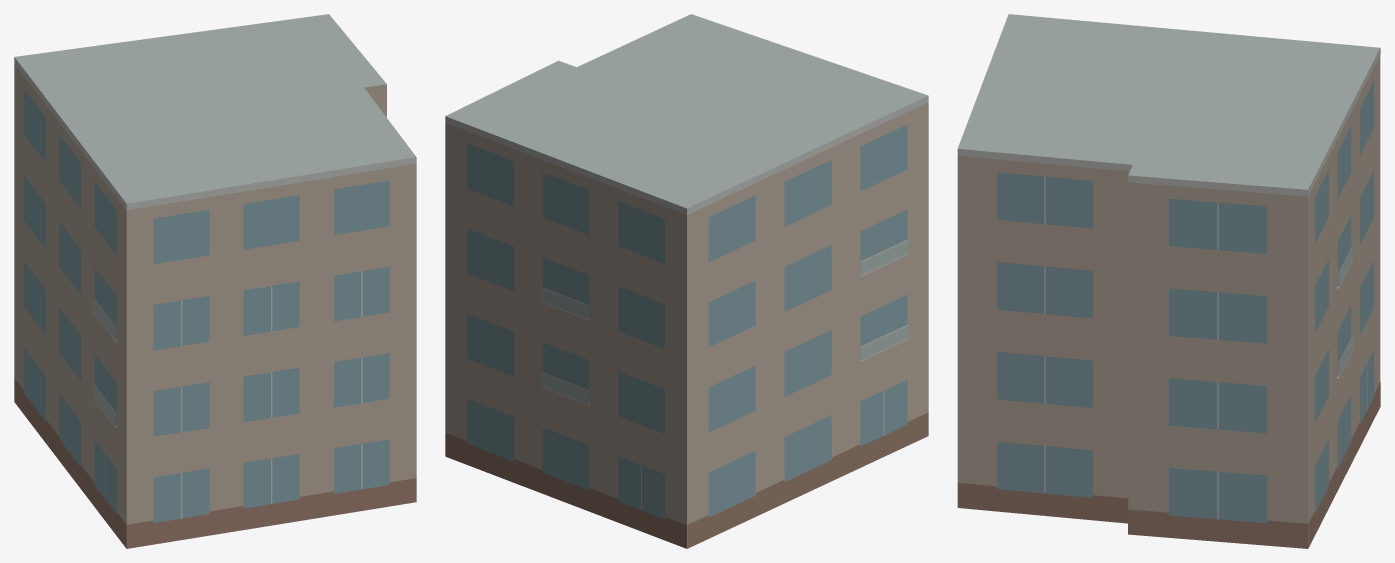
Rendered from survey-upis-32663527.glb.
The picture shows the model from 3 angles, left to right: view 1: azimuth 30°, elevation 25°; view 2: azimuth 150°, elevation 25°; view 3: azimuth 270°, elevation 25°; orthographic projection. The views are drawn at different scales.
Parts seen in each view (by area): view 1: survey-upis-32663527.tmp; view 2: survey-upis-32663527.tmp; view 3: survey-upis-32663527.tmp.
Part boxes in pixels (x1,y1,x2,y2): survey-upis-32663527.tmp: (14, 14, 416, 548); survey-upis-32663527.tmp: (445, 14, 928, 548); survey-upis-32663527.tmp: (957, 14, 1380, 548).
Size of the model in its own units: 13.35 by 12.7 by 13.56.
